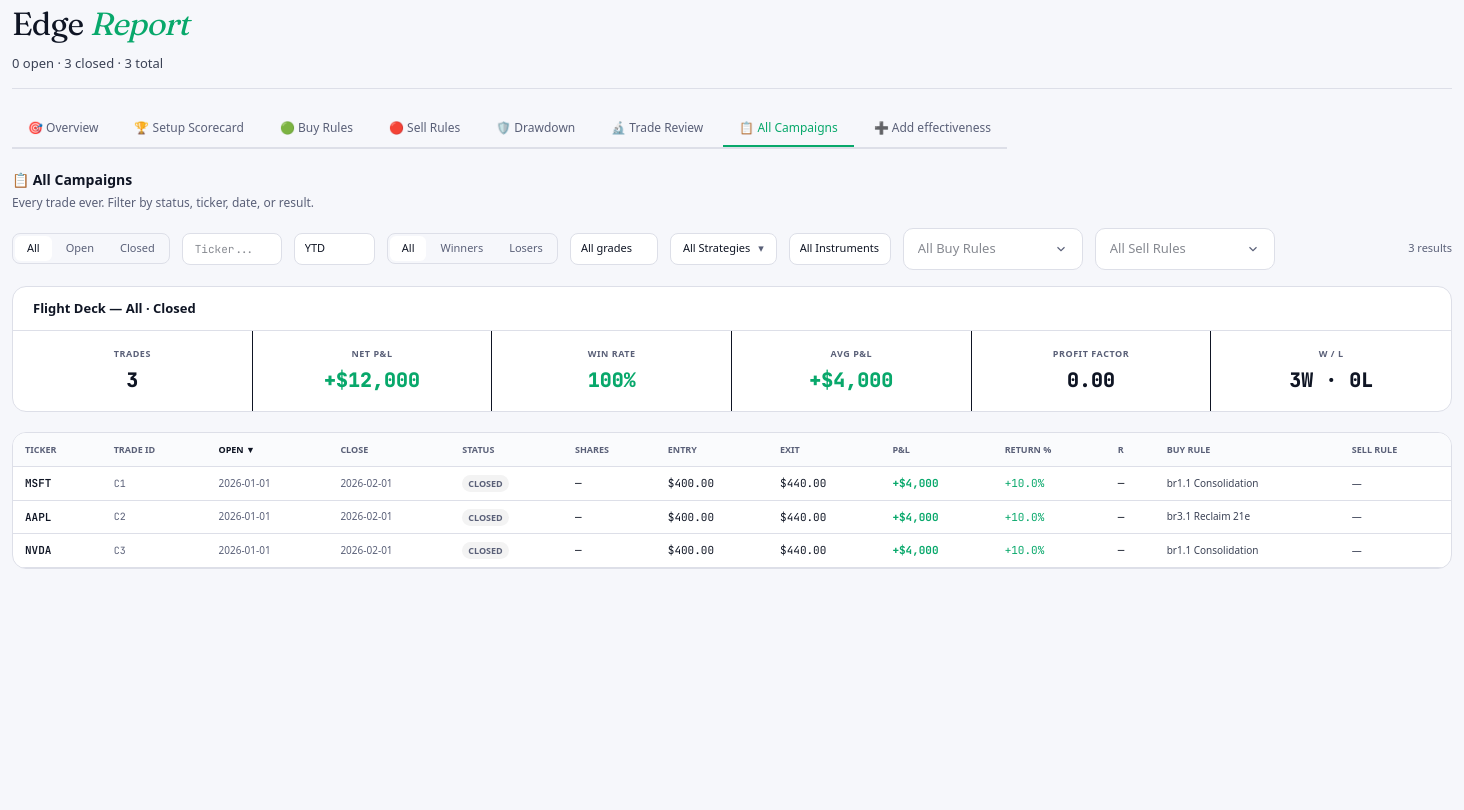
Analytics — All Campaigns filters › Buy Rule filter narrows visible rows
Expected: the text "MSFT" is shown, left=13, top=466, right=102, bottom=500
Click the button "All Buy Rules": (993, 248) left=903, top=228, right=1083, bottom=270
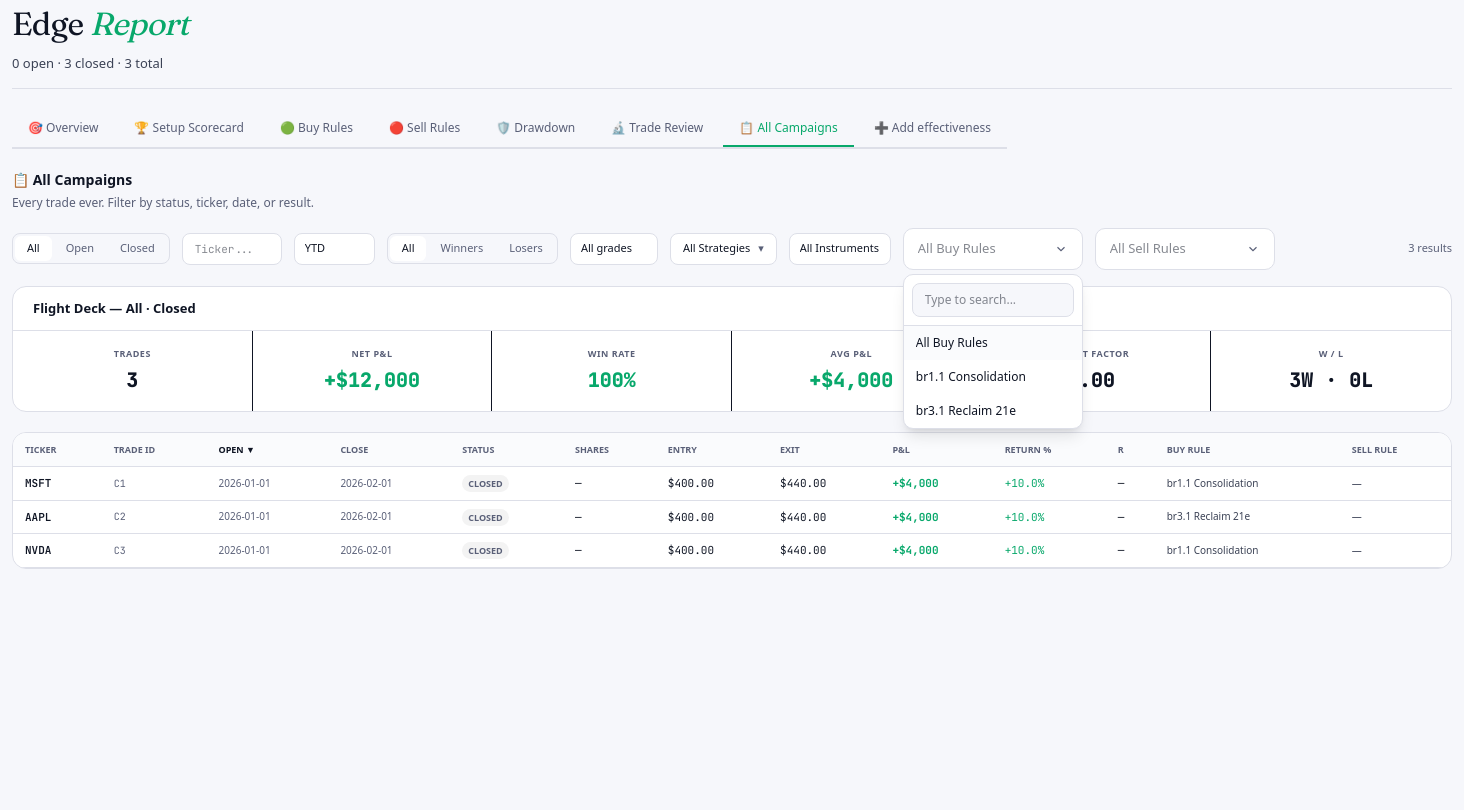
Click the button "br1.1 Consolidation": (993, 376) left=904, top=360, right=1082, bottom=394
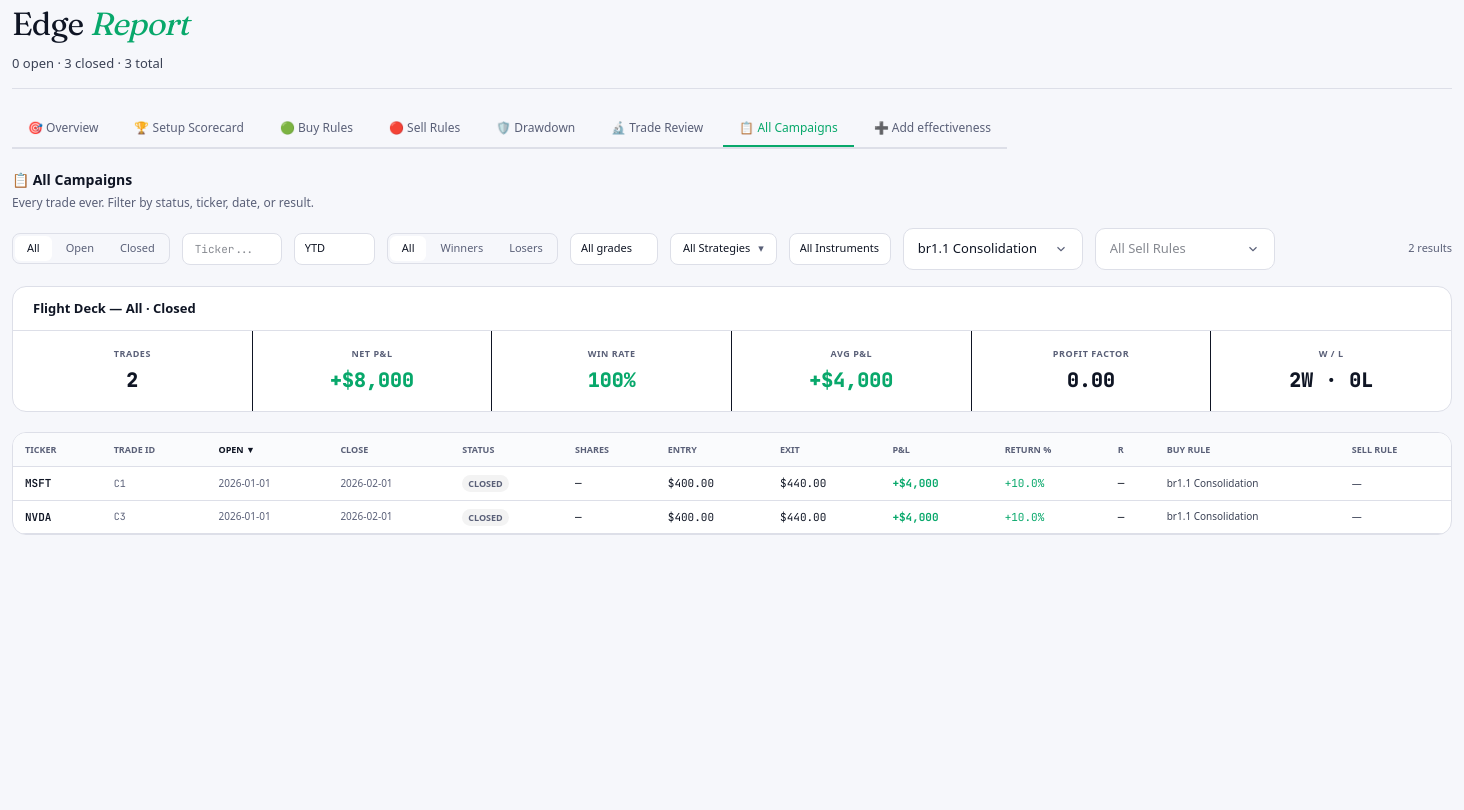
Expected: the text "MSFT" is shown, left=13, top=466, right=102, bottom=500
Result: the text "AAPL" is gone
